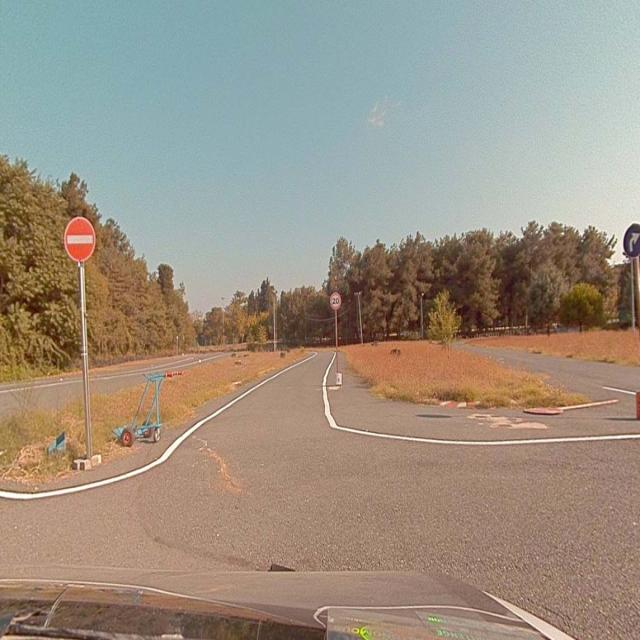20: (330, 292, 341, 308)
girisyok: (65, 218, 95, 260)
sag: (625, 224, 640, 256)
